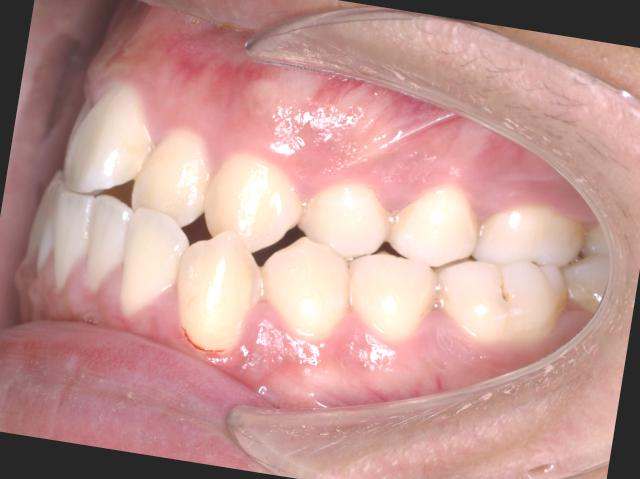canine class II 1/2: (166, 136, 372, 372)
molar class I: (430, 189, 588, 357)
